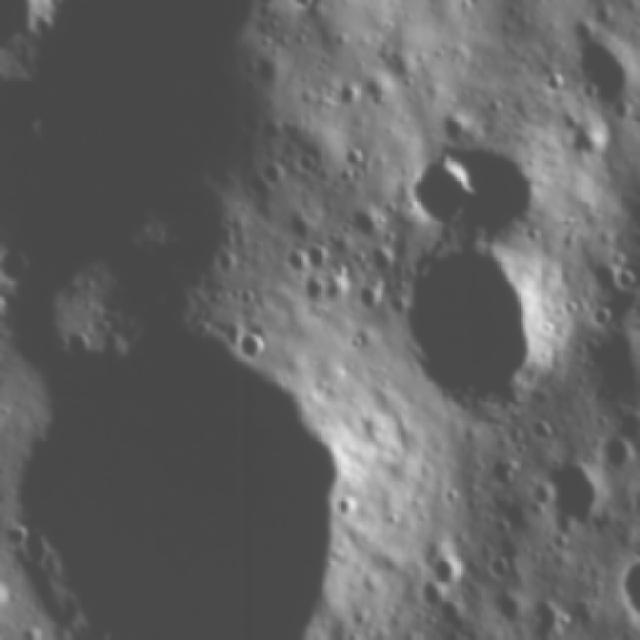crater: (234, 319, 271, 373)
